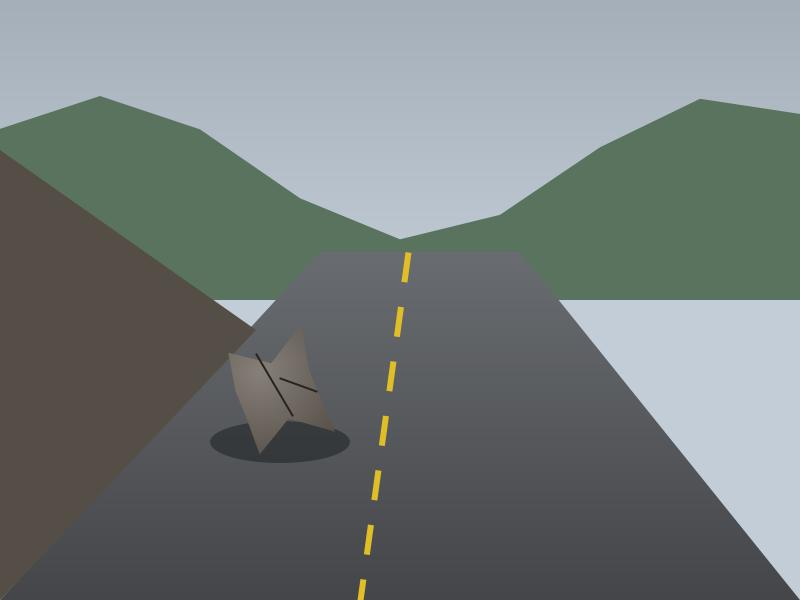ROAD_OBSTACLE: (220, 330, 340, 452)
